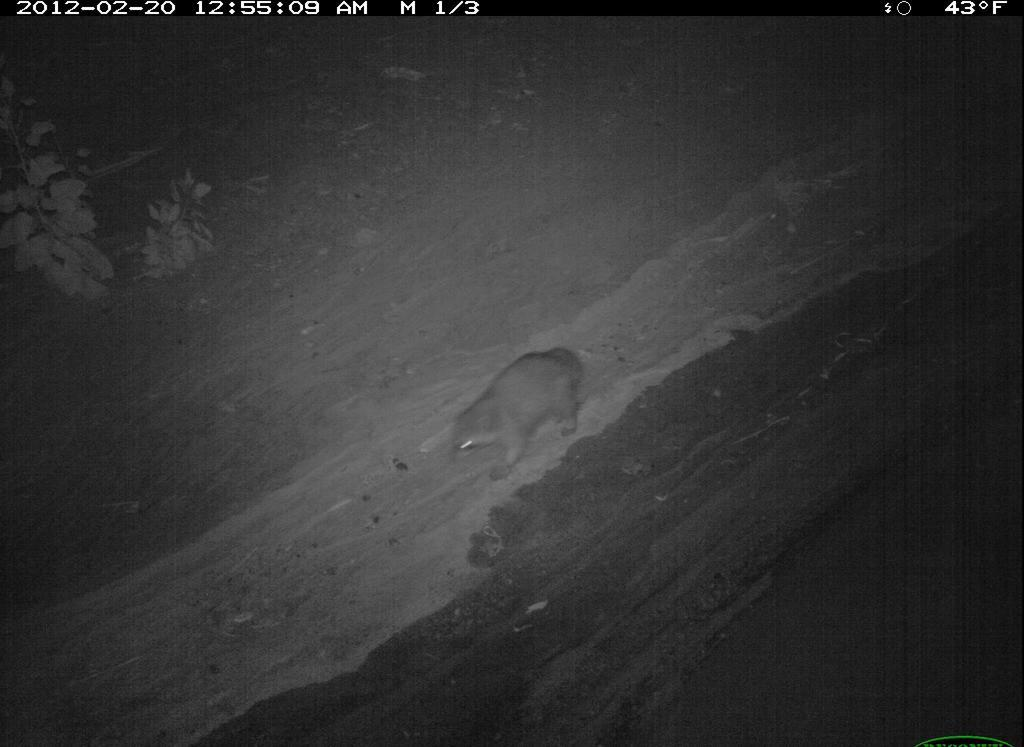raccoon: (886, 679, 1024, 747)
